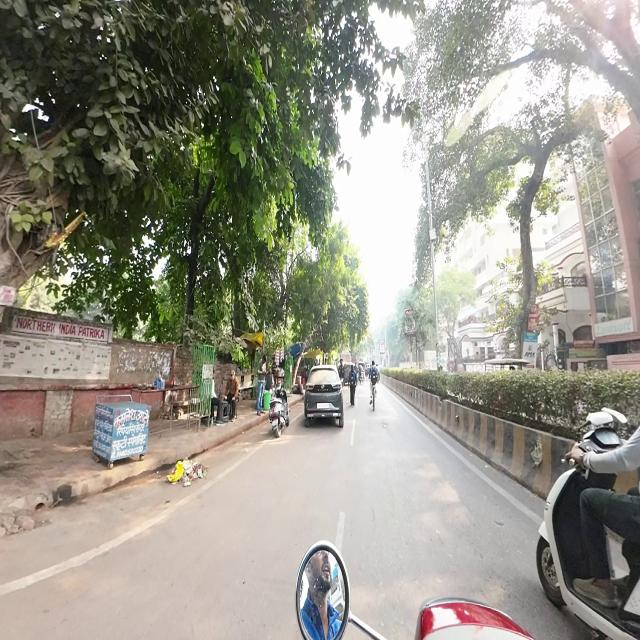Garbage: (168, 454, 206, 488)
